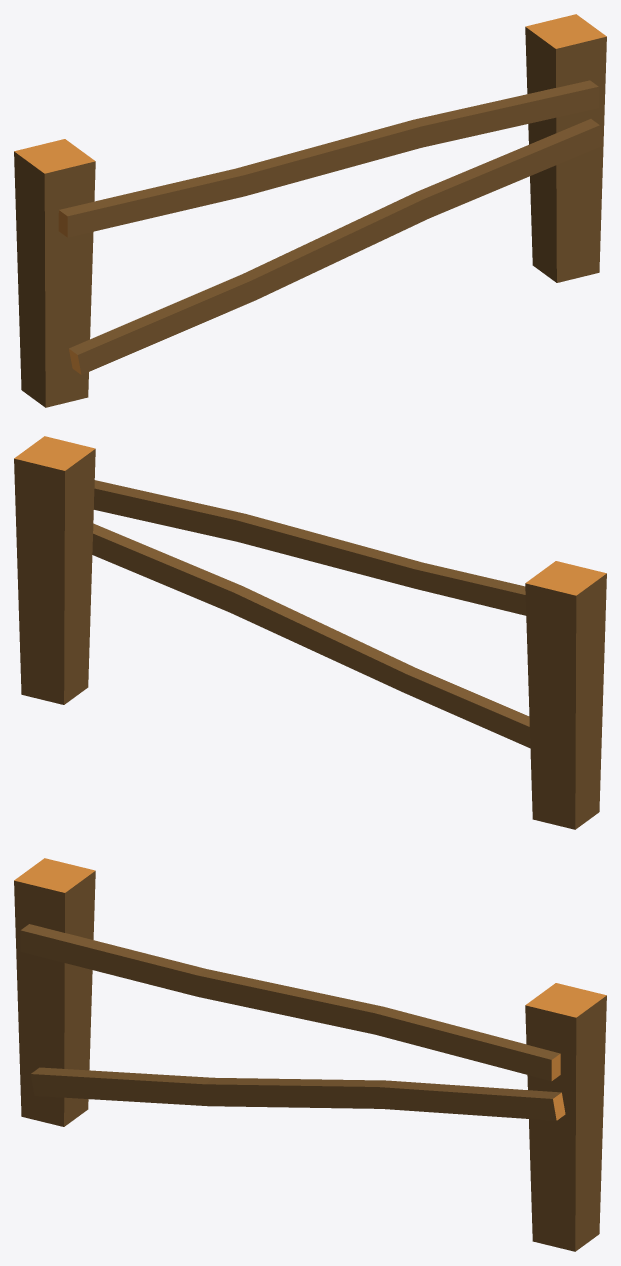
File: fence.glb
3 renders of one model, top to bottom at view 1: azimuth 30°, elevation 25°; view 2: azimuth 150°, elevation 25°; view 3: azimuth 330°, elevation 25°, orthographic.
Visible parts, largest first — view 1: Foot1, Wood2, Wood1, Foot2; view 2: Foot2, Foot1, Wood2, Wood1; view 3: Foot2, Wood1, Wood2, Foot1.
Boxes of the visible parts, <box> form: Foot1: <box>14,139,95,407</box>; Wood2: <box>69,119,603,374</box>; Wood1: <box>58,80,598,237</box>; Foot2: <box>525,14,606,282</box>; Foot2: <box>14,436,95,704</box>; Foot1: <box>525,561,606,829</box>; Wood2: <box>92,523,530,747</box>; Wood1: <box>94,480,526,615</box>; Foot2: <box>525,983,606,1251</box>; Wood1: <box>20,924,560,1081</box>; Wood2: <box>31,1067,565,1120</box>; Foot1: <box>14,858,95,1126</box>.
Bounding box in the file's own units: 4.95 × 2 × 0.5929.
